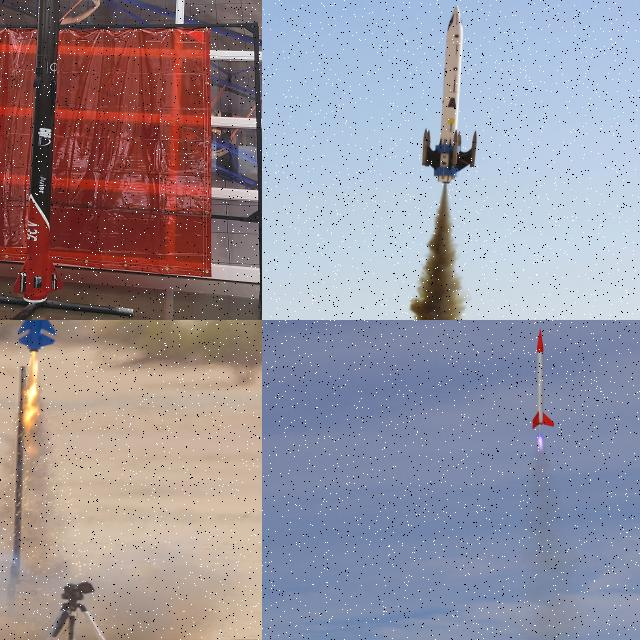Rocket: (14, 0, 63, 300), (418, 5, 479, 184), (530, 328, 558, 430)
